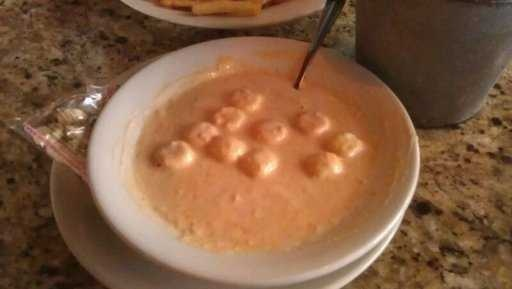soup: (136, 46, 387, 256)
